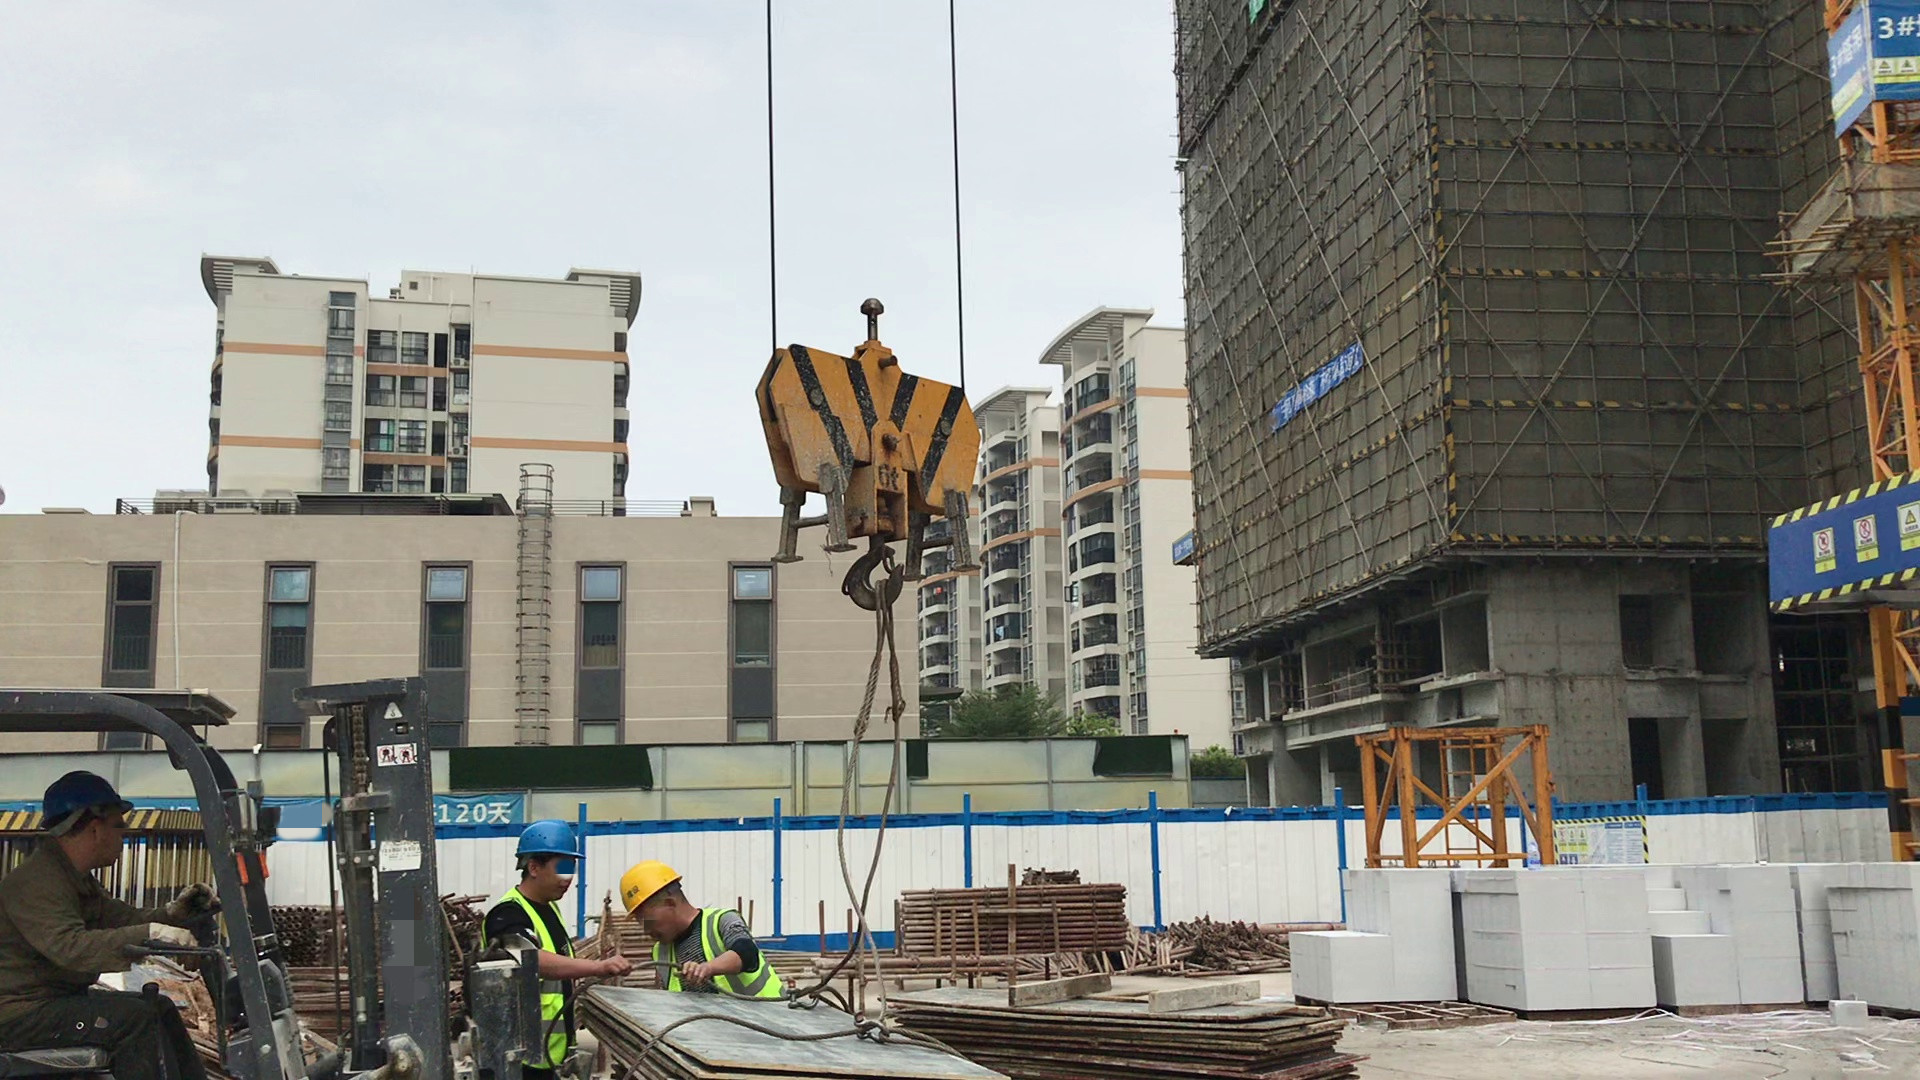board: (894, 957, 1371, 1080), (590, 985, 1012, 1080)
brick: (1446, 855, 1664, 1018), (1290, 848, 1452, 1007), (1789, 838, 1920, 1013), (1655, 852, 1786, 1013)
helmet: (32, 767, 141, 826), (619, 850, 688, 920), (505, 823, 590, 860)
hook: (744, 287, 1009, 609)
person: (1, 771, 222, 1071), (464, 816, 618, 1069), (622, 854, 815, 1013)
scaffold: (893, 892, 1137, 956), (281, 890, 337, 963)
slogan: (256, 786, 535, 829), (1271, 348, 1359, 429)
vest: (472, 890, 575, 1058), (646, 926, 788, 998)
